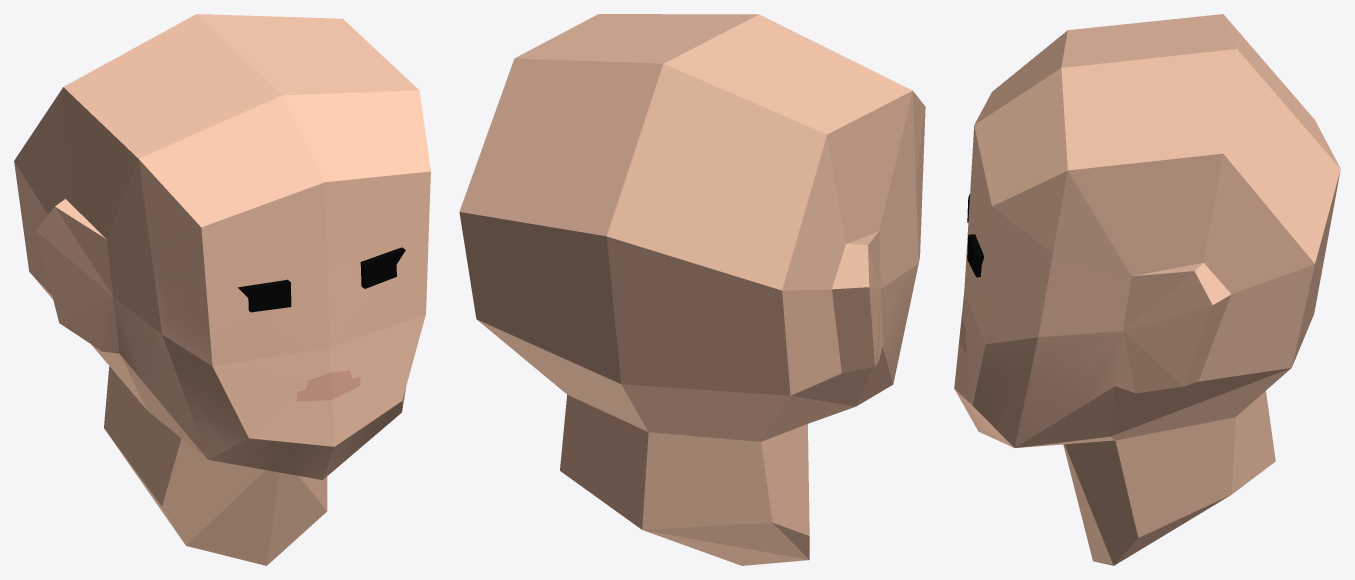
The model's file is Chr_Head_Female_11_Static.fbx.
3 renders of one model, left to right at view 1: azimuth 30°, elevation 25°; view 2: azimuth 150°, elevation 25°; view 3: azimuth 270°, elevation 25°, orthographic. The views are drawn at different scales.
Visible parts, largest first — view 1: Chr_Head_Female_11_Static; view 2: Chr_Head_Female_11_Static; view 3: Chr_Head_Female_11_Static.
Part boxes in pixels (bbox=[...]): Chr_Head_Female_11_Static: bbox=[14, 14, 430, 565]; Chr_Head_Female_11_Static: bbox=[459, 14, 925, 565]; Chr_Head_Female_11_Static: bbox=[954, 14, 1340, 565].
Size of the model in its own units: 0.2661 by 0.3693 by 0.2526.
